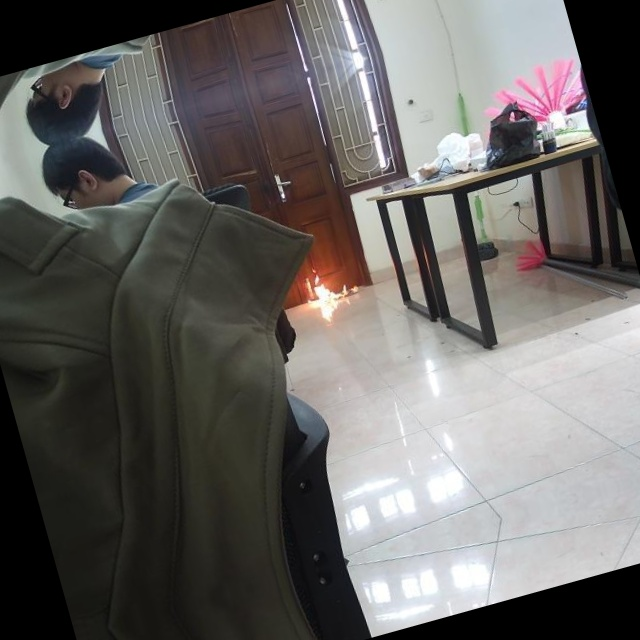fire: (286, 251, 369, 342)
